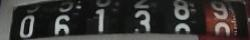digits: (130, 11, 153, 37), (16, 15, 38, 39), (93, 6, 111, 34), (50, 14, 71, 36), (169, 0, 190, 21), (210, 21, 232, 40)
